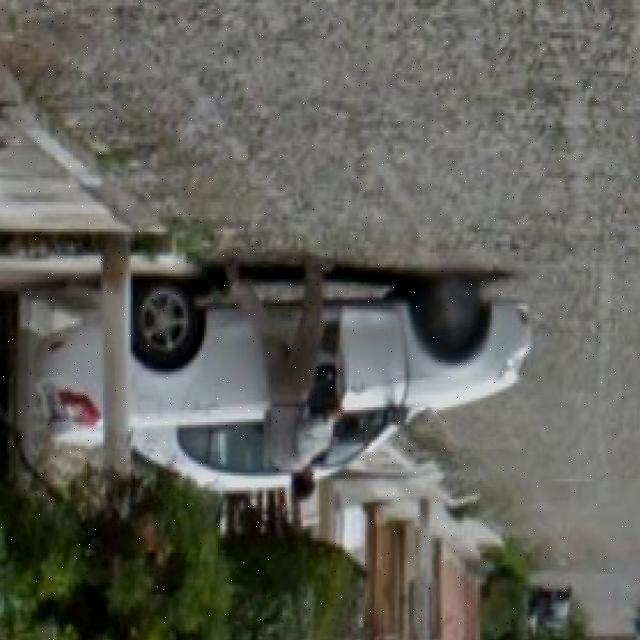car: (31, 259, 531, 498)
